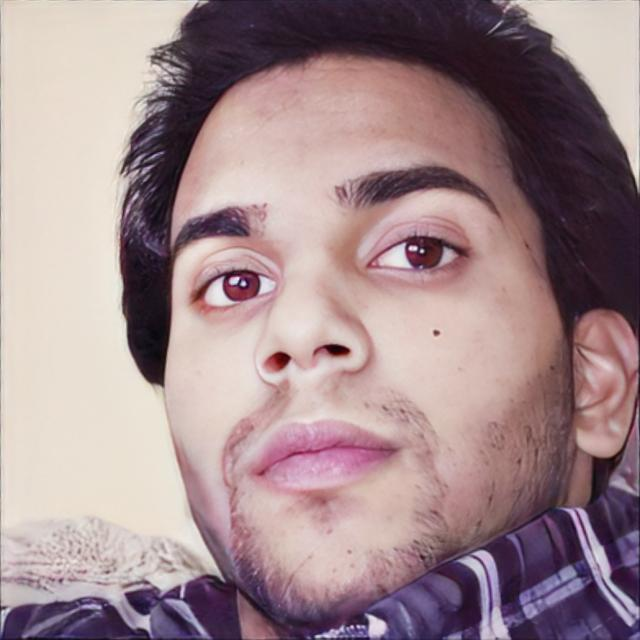neutral: (158, 38, 575, 620)
